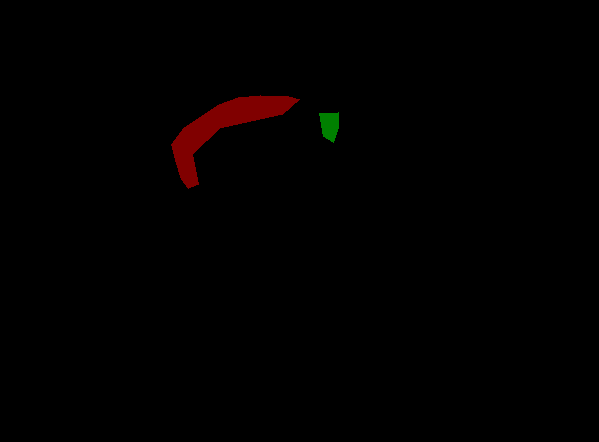fire: (171, 95, 299, 188), (319, 112, 338, 142)
